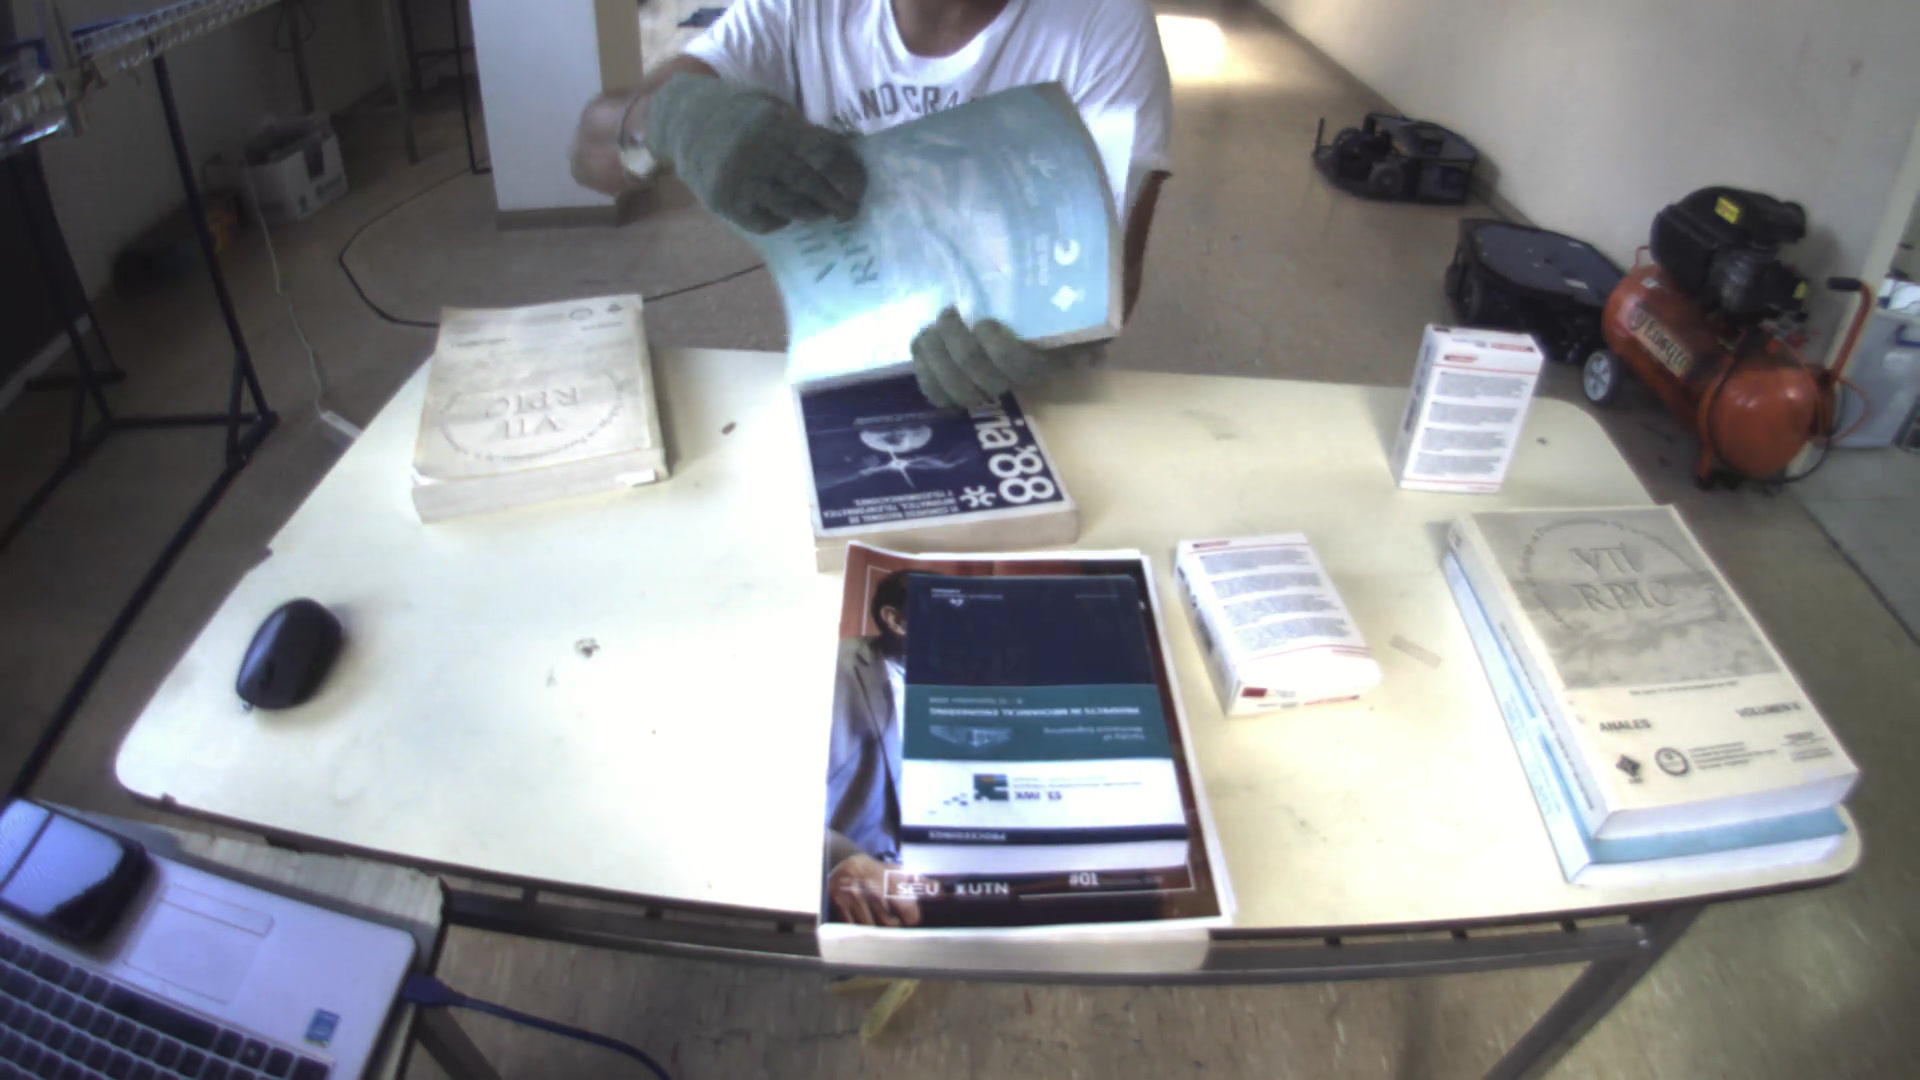hand: (640, 76, 877, 241), (907, 305, 1109, 415)
